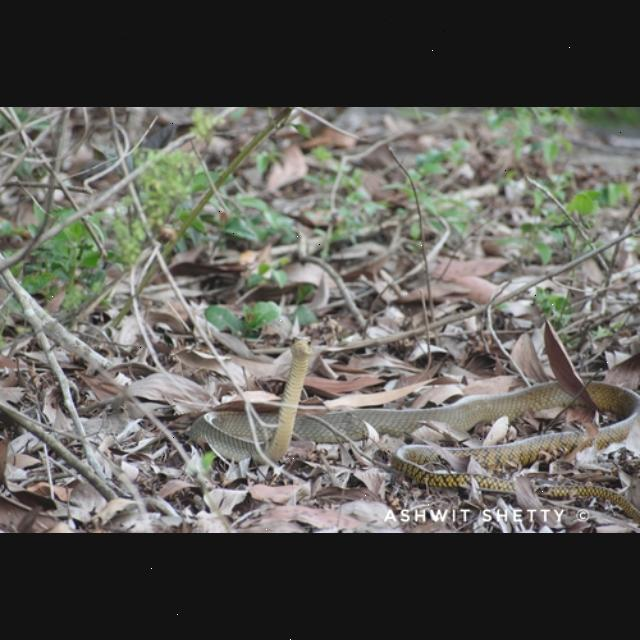snake: (188, 327, 640, 521)
